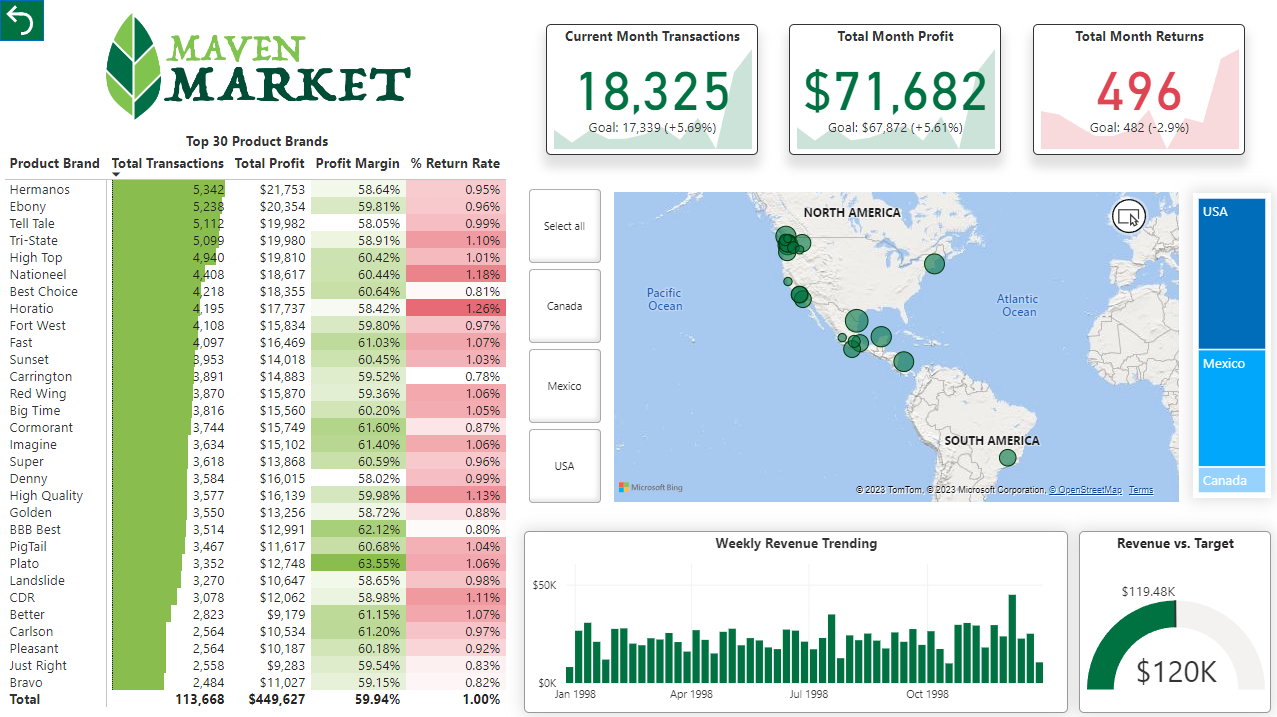

The dashboard page shown, as its layout file describes it:
{"tool":"powerbi","page":{"name":"Topline Performance","canvas":[1280,720],"ordinal":0},"visuals":[{"type":"image","box":[91.8,0,330.6,131.8],"z":0},{"type":"pivotTable","title":"Top 30 Product Brands","fields":{"Rows":["Products Lookup.product_brand"],"Values":["Measure Table.Total Transactions","Measure Table.Total Profit","Measure Table.Profit Margin","Measure Table.% Return Rate"]},"box":[0,132,515,588],"z":1000},{"type":"kpi","title":"Current Month Transactions","fields":{"Indicator":["Measure Table.Total Transactions"],"TrendLine":["Calendar Lookup.Start of Month"],"Goal":["Measure Table.Last Month Transactions"]},"box":[545.9,23.5,211.8,131.8],"z":2000},{"type":"kpi","title":"Total Month Profit","fields":{"TrendLine":["Calendar Lookup.Start of Month"],"Indicator":["Measure Table.Total Profit"],"Goal":["Measure Table.Last Month Profit"]},"box":[789.4,23.5,211.8,131.8],"z":3000},{"type":"kpi","title":"Total Month Returns","fields":{"TrendLine":["Calendar Lookup.Start of Month"],"Indicator":["Measure Table.Total Returns"],"Goal":["Measure Table.Last Month Returns"]},"box":[1032.9,23.5,211.8,131.8],"z":4000},{"type":"map","fields":{"Size":["Measure Table.Total Transactions"],"Category":["Stores Lookup.store_city"]},"box":[605.9,183.5,578.8,324.7],"z":5000},{"type":"advancedSlicerVisual","fields":{"Values":["Stores Lookup.store_country"]},"box":[523.5,183.5,82.4,324.7],"z":6000},{"type":"treemap","fields":{"Group":["Stores Lookup.store_country","Stores Lookup.store_state","Stores Lookup.store_city"],"Values":["Measure Table.Total Transactions"]},"box":[1192.9,192.9,77.6,304.7],"z":7000},{"type":"clusteredColumnChart","title":"Weekly Revenue Trending","fields":{"Y":["Measure Table.Total Revenue"],"Category":["Calendar Lookup.Start of Week"]},"box":[524,531,544,182],"z":8000},{"type":"gauge","title":"Revenue vs. Target","fields":{"Y":["Measure Table.Total Revenue"],"TargetValue":["Measure Table.Revenue Target"]},"box":[1079,531,192,182],"z":9000},{"type":"shape","box":[0,0,43.5,41.2],"z":10000},{"type":"actionButton","box":[0,0,43.5,40],"z":11000}]}

Visuals, with their boxes in screenshot pixels (x1, y1, x2, y2), scaled from the page's 1280x720 canvas onto the 1277x717 screenshot:
image: [92, 0, 421, 131]
"Top 30 Product Brands" pivotTable: [0, 131, 514, 716]
"Current Month Transactions" kpi: [545, 23, 756, 155]
"Total Month Profit" kpi: [788, 23, 999, 155]
"Total Month Returns" kpi: [1030, 23, 1242, 155]
map - Measure Table.Total Transactions x Stores Lookup.store_city: [604, 183, 1182, 506]
advancedSlicerVisual - Stores Lookup.store_country: [522, 183, 604, 506]
treemap - Stores Lookup.store_country x Stores Lookup.store_state: [1190, 192, 1268, 496]
"Weekly Revenue Trending" clusteredColumnChart: [523, 529, 1065, 710]
"Revenue vs. Target" gauge: [1076, 529, 1268, 710]
shape: [0, 0, 43, 41]
actionButton: [0, 0, 43, 40]
